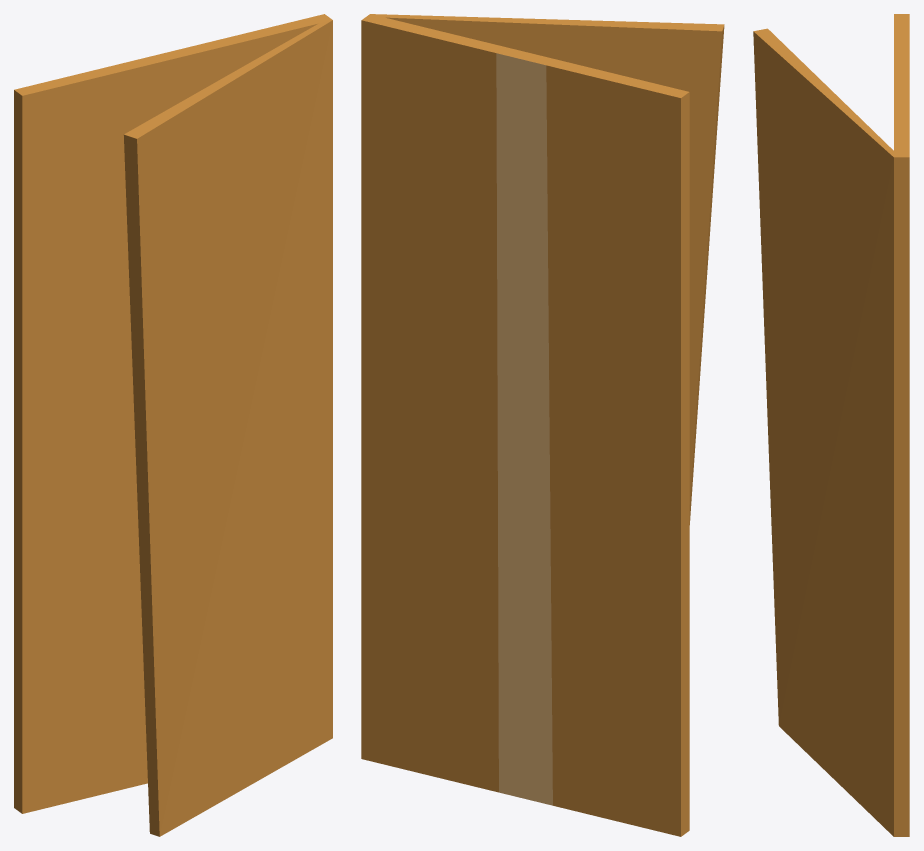
Rendered from trashgroup2137913344.fbx.
3 views of the same model, side by side, from view 1: azimuth 30°, elevation 25°; view 2: azimuth 150°, elevation 25°; view 3: azimuth 270°, elevation 25° (orthographic). The views are drawn at different scales.
Visible parts, largest first — view 1: group2137913344; view 2: group2137913344; view 3: group2137913344.
Boxes of the visible parts, x1,y1,x2,y2 form: group2137913344: (14,14,332,836); group2137913344: (361,14,724,836); group2137913344: (753,14,909,836).
Bounding box in the file's own units: 53.29 × 118 × 24.56.
